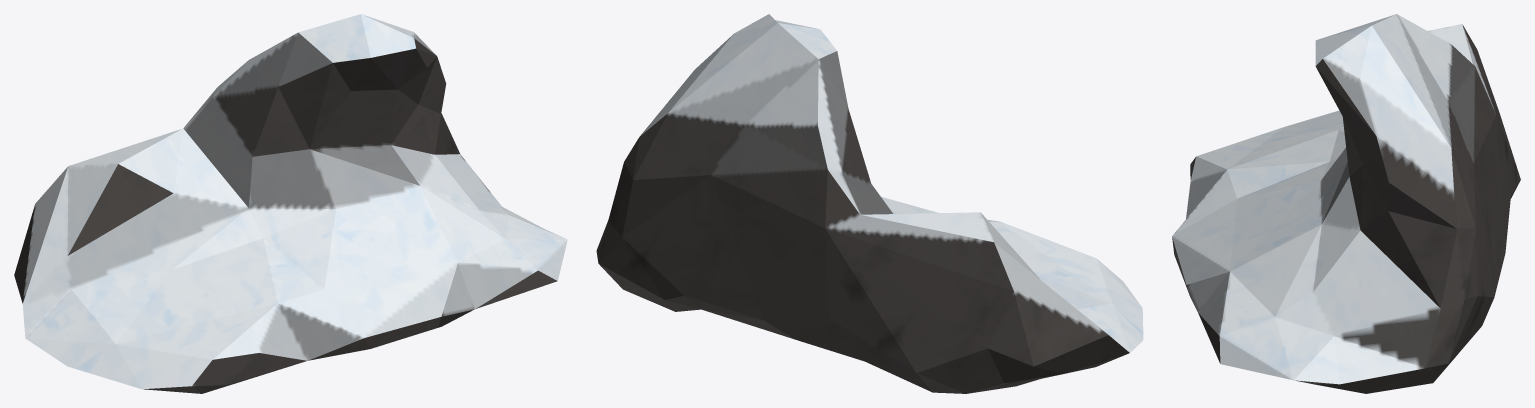
The model's file is pass_mound.gltf.
The picture shows the model from 3 angles, left to right: view 1: azimuth 30°, elevation 25°; view 2: azimuth 150°, elevation 25°; view 3: azimuth 270°, elevation 25°; orthographic projection. The views are drawn at different scales.
Parts seen in each view (by area): view 1: pass_mound; view 2: pass_mound; view 3: pass_mound.
Boxes of the visible parts, x1,y1,x2,y2 form: pass_mound: [14, 14, 567, 393]; pass_mound: [596, 14, 1143, 393]; pass_mound: [1172, 14, 1520, 393].
Bounding box in the file's own units: 2.94 × 1.58 × 1.6.
1 material, 1 textured.
